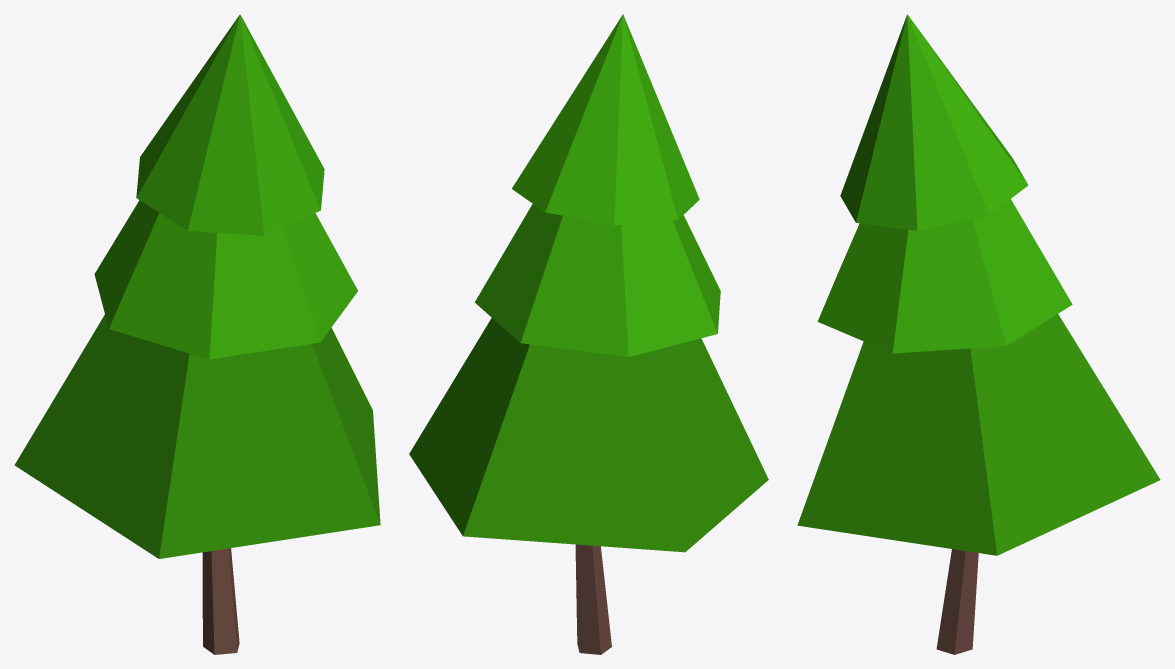
The model's file is treeSet_pine1.fbx.
The picture shows the model from 3 angles, left to right: view 1: azimuth 30°, elevation 25°; view 2: azimuth 150°, elevation 25°; view 3: azimuth 270°, elevation 25°; orthographic projection. The views are drawn at different scales.
Parts seen in each view (by area): view 1: leaves, leaves_2, leaves_3, bark; view 2: leaves, leaves_2, leaves_3, bark; view 3: leaves, leaves_2, leaves_3, bark.
Part boxes in pixels (left/top/right/bottom): leaves: left=14, top=315, right=380, bottom=558; leaves_2: left=94, top=200, right=357, bottom=359; leaves_3: left=136, top=14, right=324, bottom=235; bark: left=202, top=548, right=239, bottom=654; leaves: left=409, top=318, right=768, bottom=552; leaves_2: left=474, top=204, right=720, bottom=357; leaves_3: left=512, top=14, right=699, bottom=225; bark: left=575, top=544, right=611, bottom=654; leaves: left=797, top=314, right=1160, bottom=555; leaves_2: left=817, top=199, right=1072, bottom=353; leaves_3: left=840, top=14, right=1028, bottom=230; bark: left=936, top=549, right=978, bottom=654.
Bounding box in the file's own units: 593 × 1138 × 595.
1 material, 1 textured.
